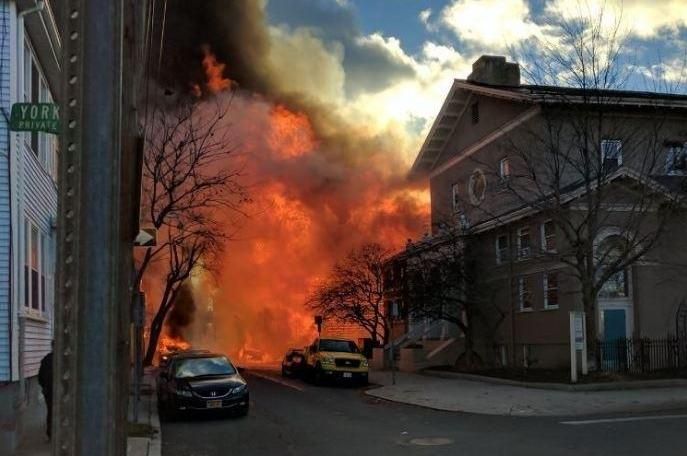fire: (233, 209, 313, 355), (316, 196, 381, 347), (144, 254, 186, 356), (249, 110, 312, 161)
smoke: (180, 3, 351, 101), (317, 108, 403, 195)
